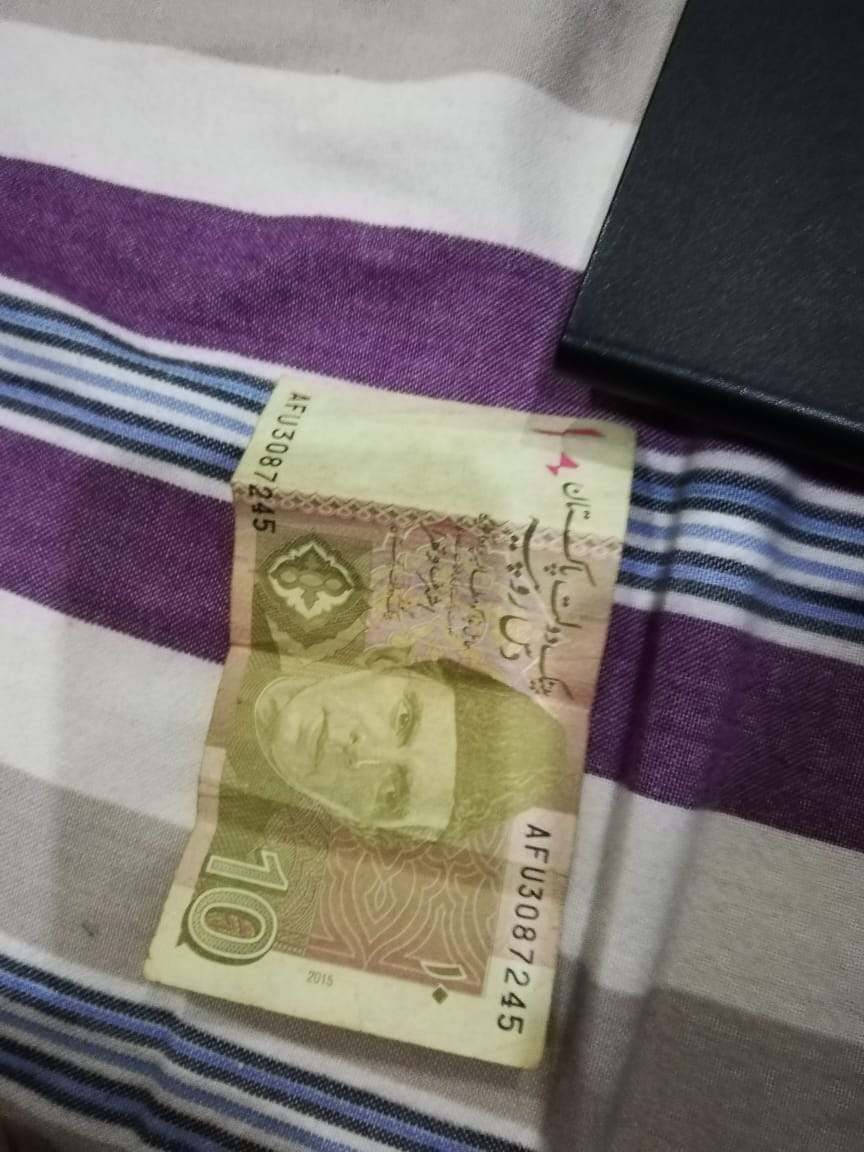10 rupee: (133, 390, 660, 1071)
